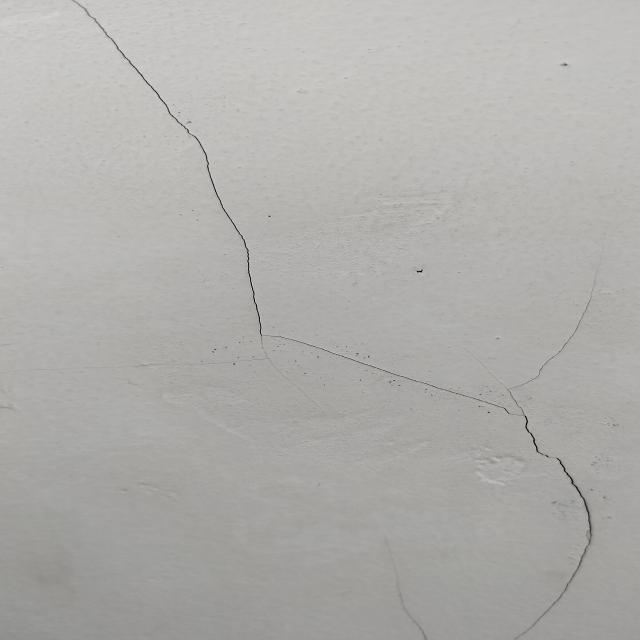Crack: (65, 1, 606, 636)
